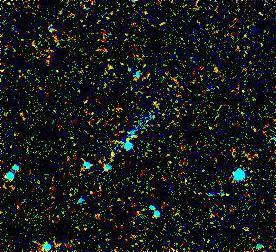star: (99, 138, 129, 168)
